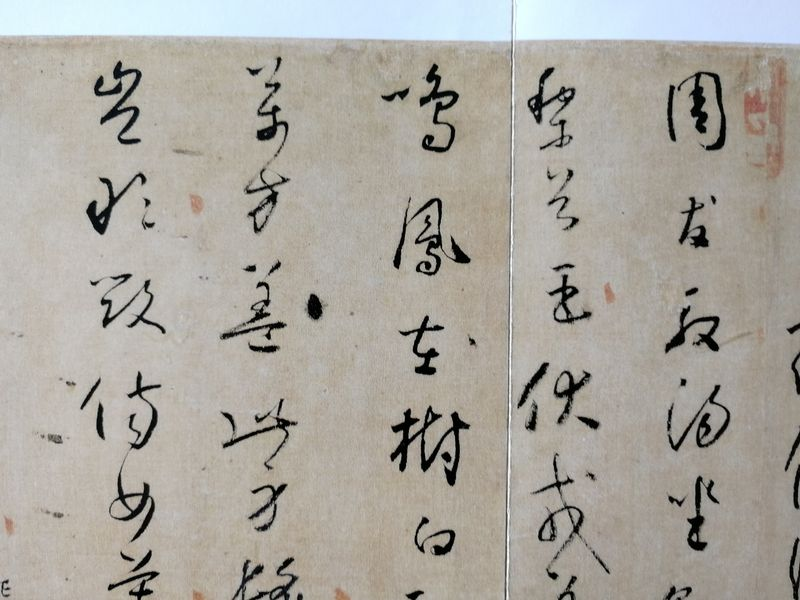zi: (537, 451, 615, 569), (379, 61, 459, 153), (220, 260, 294, 355), (391, 195, 471, 280), (76, 375, 164, 449), (392, 404, 468, 487), (515, 359, 602, 429), (88, 273, 171, 337), (664, 376, 730, 456), (667, 71, 729, 154), (666, 474, 723, 557), (89, 168, 158, 235), (222, 399, 300, 458), (246, 53, 293, 146), (526, 64, 575, 151), (90, 62, 142, 142), (393, 313, 449, 379), (242, 162, 292, 235), (667, 287, 718, 355), (105, 467, 158, 532), (229, 555, 302, 600), (247, 461, 287, 535), (106, 542, 155, 600), (547, 263, 591, 323), (543, 165, 579, 232), (676, 194, 718, 250), (411, 513, 456, 555)
